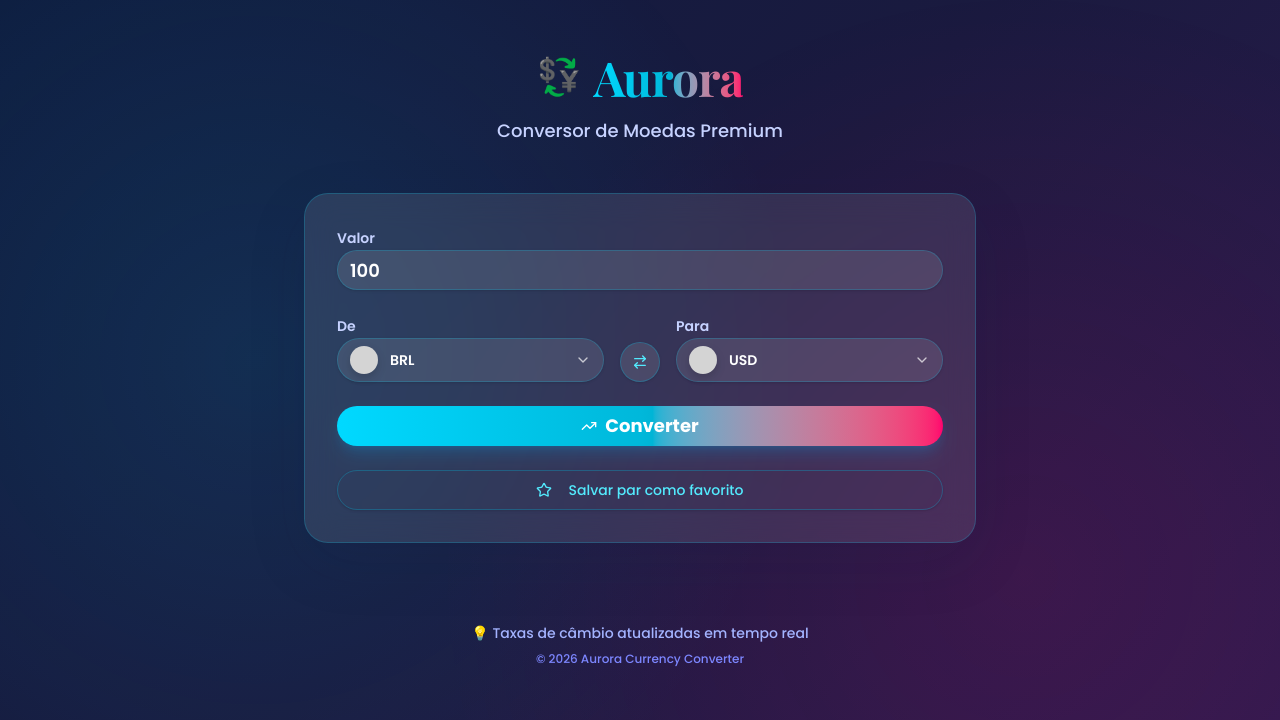
Home › deve salvar o par de moedas atual como favorito
The width and height of the screenshot is (1280, 720).
Click the button "Salvar par como favorito" at (640, 490), box [337, 470, 943, 510]
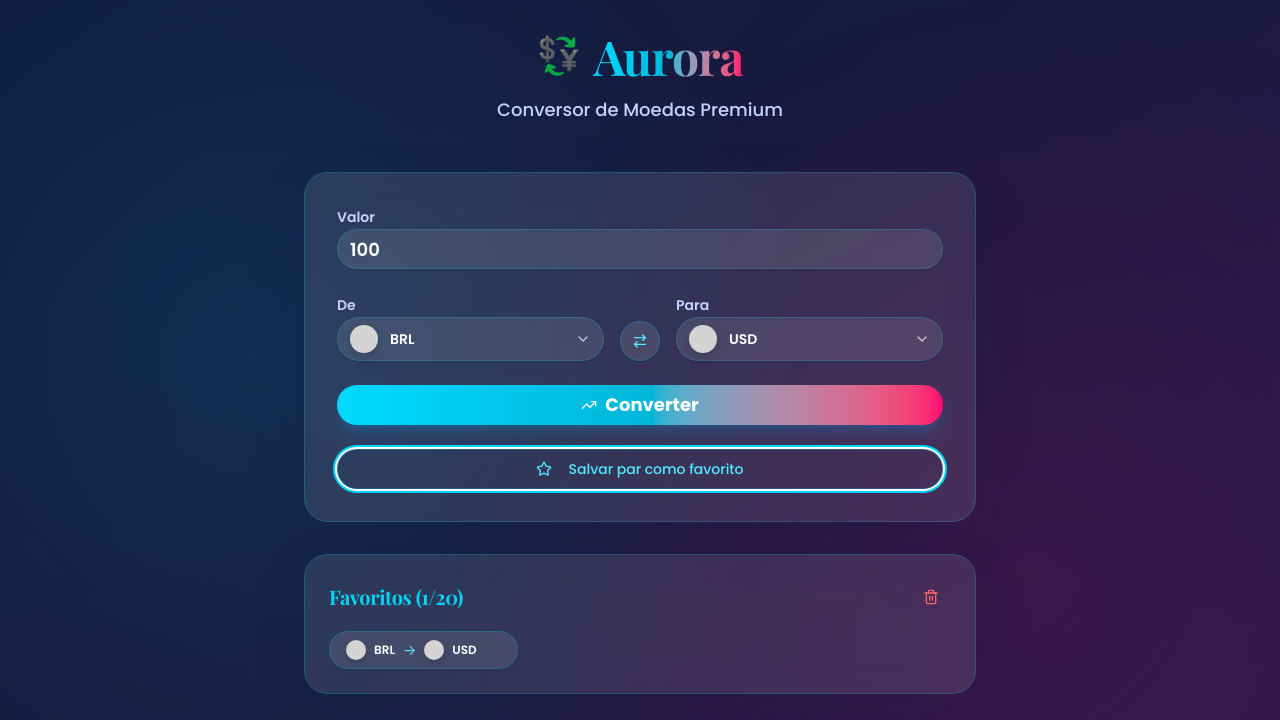
Expected: the text "BRL" below "Valor" is shown, [390, 329, 414, 349]
Now the heading "Favoritos (1/20)" is shown, box [329, 583, 463, 611]
